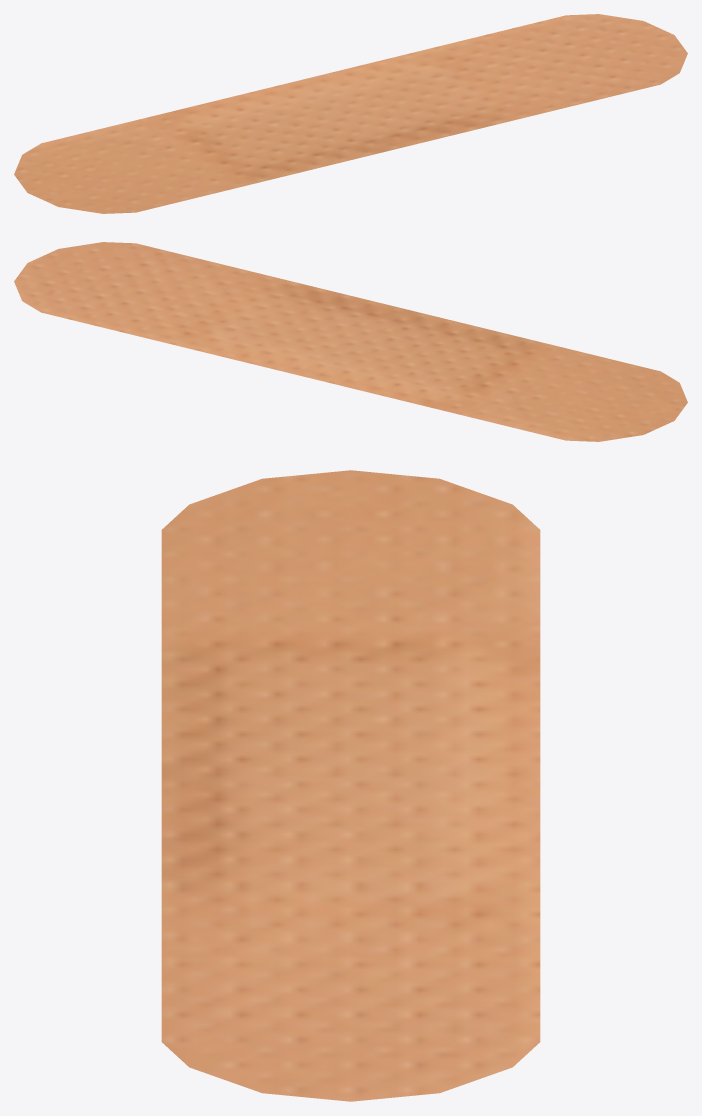
File: 091e77c4-6afe-4ee3-b759-587c62965ef3.glb
The picture shows the model from 3 angles, top to bottom: view 1: azimuth 30°, elevation 25°; view 2: azimuth 150°, elevation 25°; view 3: azimuth 270°, elevation 25°; orthographic projection. The views are drawn at different scales.
Visible parts, largest first — view 1: Bandaid_Q; view 2: Bandaid_Q; view 3: Bandaid_Q.
Boxes of the visible parts, bbox=[...] form: Bandaid_Q: bbox=[14, 14, 687, 213]; Bandaid_Q: bbox=[14, 242, 687, 441]; Bandaid_Q: bbox=[161, 470, 540, 1101].
Size of the model in its own units: 0.1254 by 0 by 0.0318.
1 material, 1 textured.
